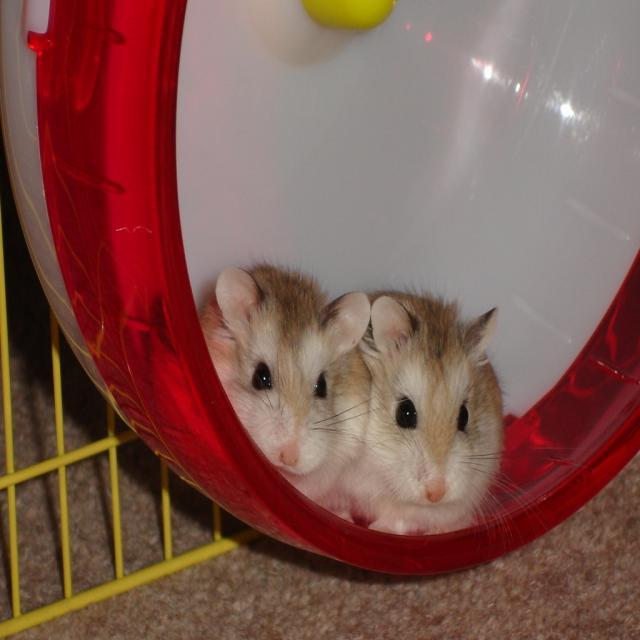rat: (330, 300, 530, 534), (198, 253, 370, 496)
